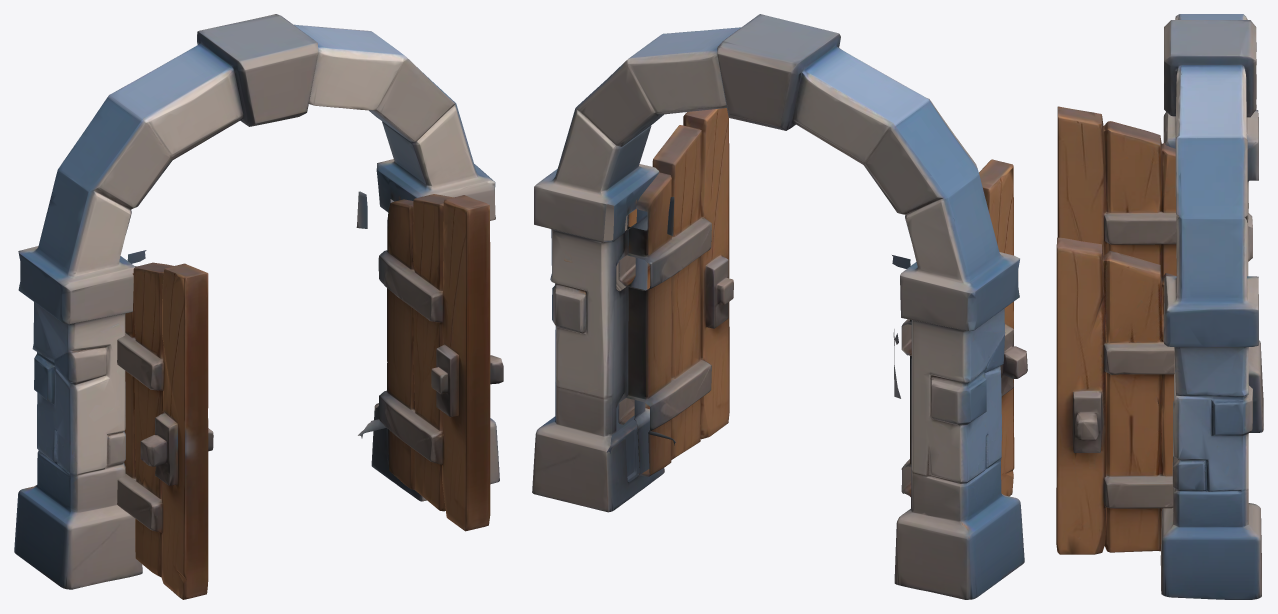
The model's file is gate.glb.
The picture shows the model from 3 angles, left to right: view 1: azimuth 30°, elevation 25°; view 2: azimuth 150°, elevation 25°; view 3: azimuth 270°, elevation 25°; orthographic projection. The views are drawn at different scales.
Visible parts, largest first — view 1: gate_frame, gate_door_right, gate_door_left; view 2: gate_frame, gate_door_right, gate_door_left; view 3: gate_frame, gate_door_right, gate_door_left.
Part boxes in pixels (box(x1,y1,x2,y2)): gate_frame: box(14, 14, 499, 589); gate_door_right: box(356, 191, 503, 531); gate_door_left: box(117, 250, 213, 599); gate_frame: box(532, 14, 1024, 599); gate_door_right: box(618, 108, 733, 476); gate_door_left: box(892, 159, 1027, 507); gate_frame: box(1160, 14, 1263, 599); gate_door_right: box(1056, 237, 1176, 554); gate_door_left: box(1057, 106, 1176, 276).
Bounding box in the file's own units: 0.8217 × 0.8644 × 0.3529.
1 material, 1 textured.
